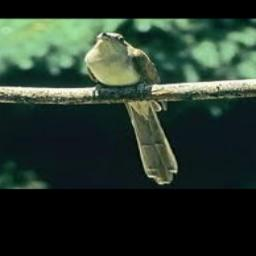Cuckoo: (83, 33, 178, 184)
